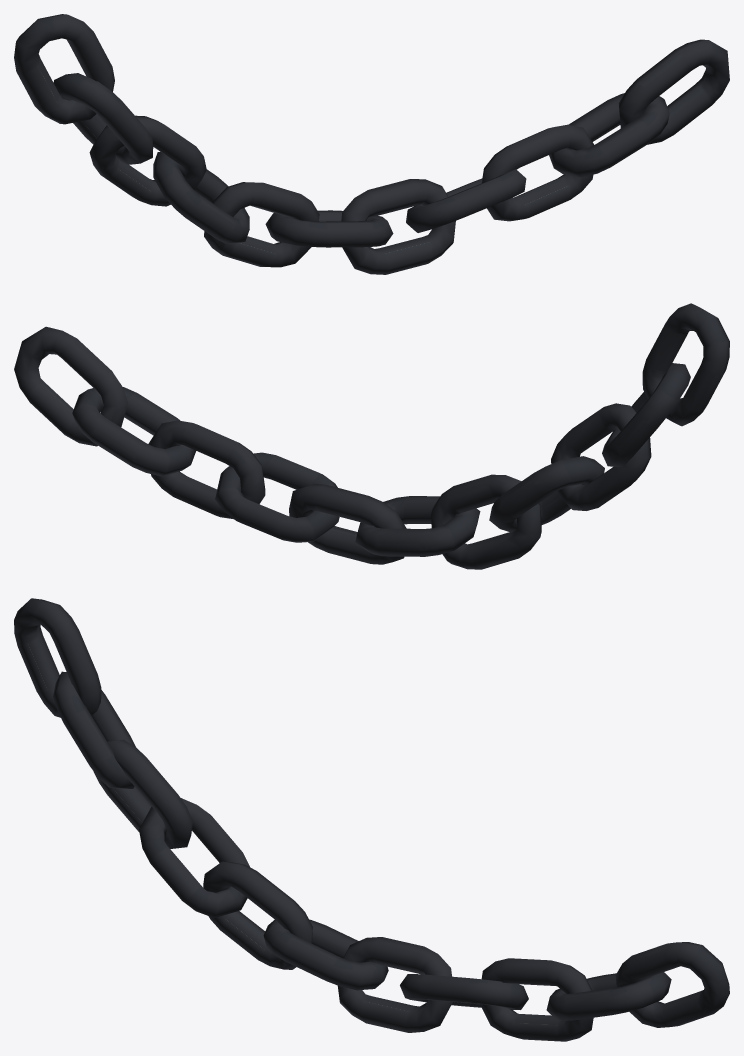
Rendered from SM_PROP_chain_dungeon_06.fbx.
The picture shows the model from 3 angles, top to bottom: view 1: azimuth 30°, elevation 25°; view 2: azimuth 150°, elevation 25°; view 3: azimuth 330°, elevation 25°; orthographic projection.
Parts seen in each view (by area): view 1: SM_PROP_chain_dungeon_06; view 2: SM_PROP_chain_dungeon_06; view 3: SM_PROP_chain_dungeon_06.
Boxes of the visible parts, box(x1,y1,x2,y2) form: SM_PROP_chain_dungeon_06: box(14, 14, 729, 274); SM_PROP_chain_dungeon_06: box(14, 303, 729, 569); SM_PROP_chain_dungeon_06: box(14, 598, 729, 1041).
Bounding box in the file's own units: 250 × 113 × 26.6.
